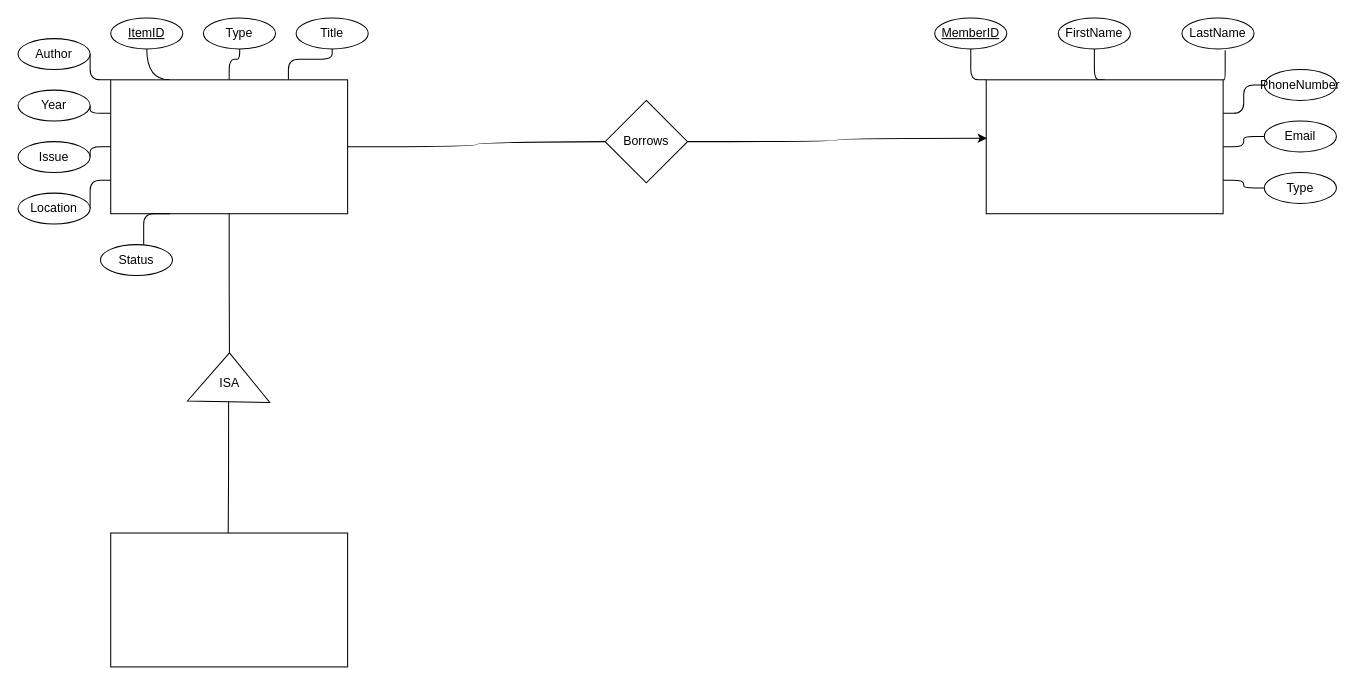
Image size: 1358x685. Some labels were removed from this diagram. Each missing label, with the centre of its shape:
"FutureItem" belongs at [229,599].
"Library Item" belongs at [229,146].
"Member" belongs at [1104,146].
